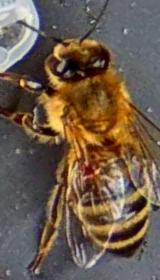varroa_mite: (72, 151, 110, 187)
